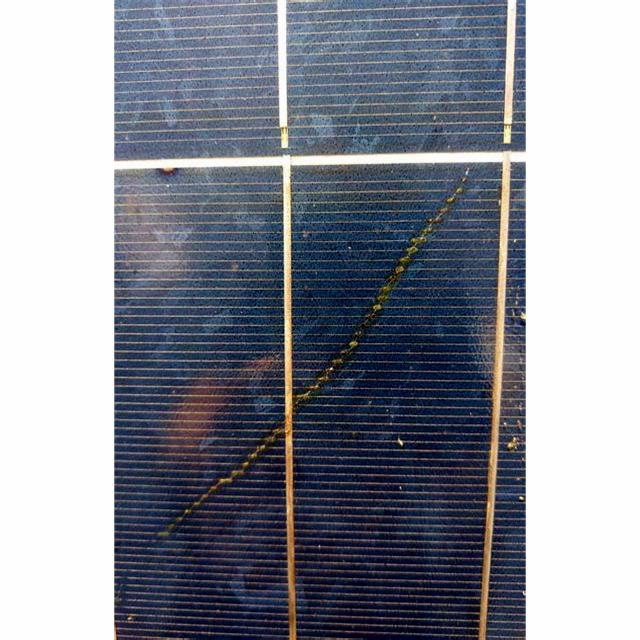shadow: (149, 148, 463, 546)
